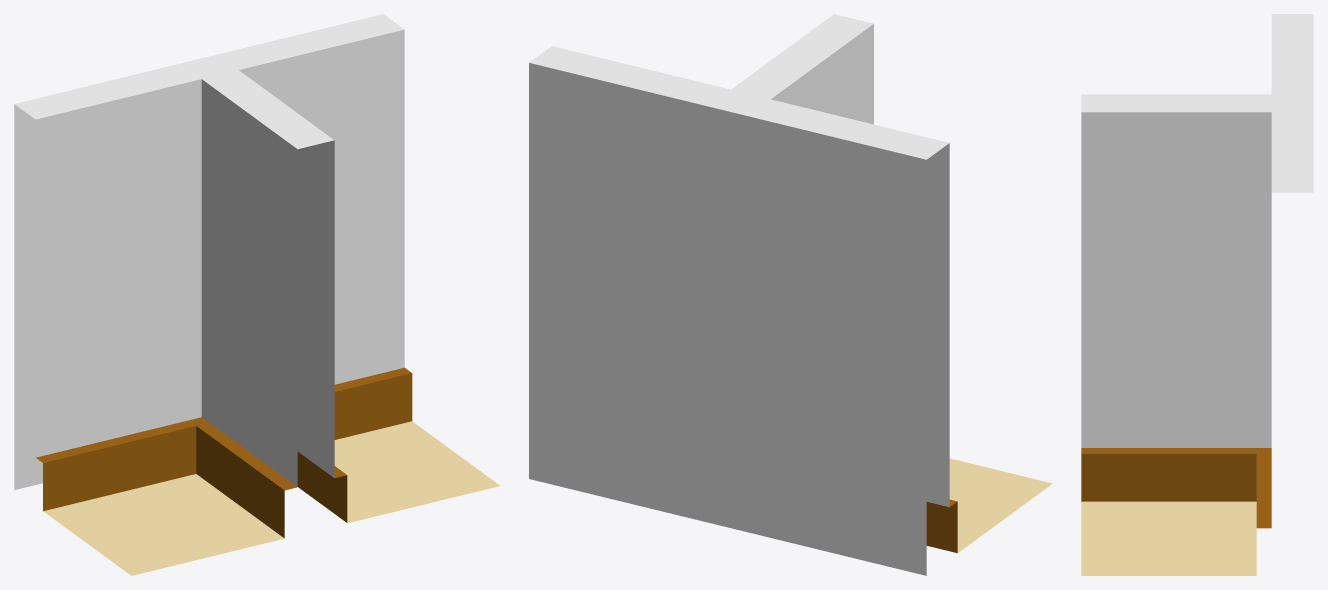
File: E_Wall_T_Shape.fbx
The picture shows the model from 3 angles, left to right: view 1: azimuth 30°, elevation 25°; view 2: azimuth 150°, elevation 25°; view 3: azimuth 270°, elevation 25°; orthographic projection. The views are drawn at different scales.
Visible parts, largest first — view 1: E_Wall_T_Shape; view 2: E_Wall_T_Shape; view 3: E_Wall_T_Shape.
Boxes of the visible parts, x1,y1,x2,y2 form: E_Wall_T_Shape: (14,14,499,575); E_Wall_T_Shape: (529,14,1052,575); E_Wall_T_Shape: (1081,14,1313,575).
Bounding box in the file's own units: 200 × 200 × 110.
Materials: 1 (1 with a texture image).
